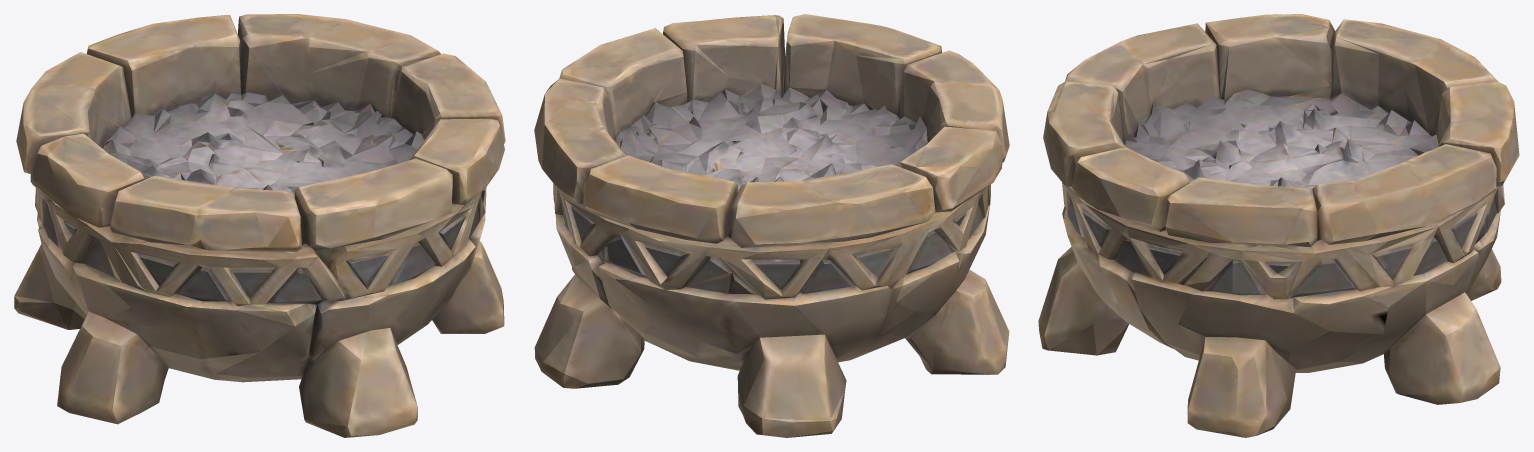
The model's file is brazier.low.glb.
The picture shows the model from 3 angles, left to right: view 1: azimuth 30°, elevation 25°; view 2: azimuth 150°, elevation 25°; view 3: azimuth 270°, elevation 25°; orthographic projection. The views are drawn at different scales.
Visible parts, largest first — view 1: output_unwrapped; view 2: output_unwrapped; view 3: output_unwrapped.
Part boxes in pixels (<box>): output_unwrapped: <box>14,14,505,437</box>; output_unwrapped: <box>534,14,1009,437</box>; output_unwrapped: <box>1038,14,1519,437</box>.
Bounding box in the file's own units: 1.9 × 0.9591 × 1.85.
Materials: 1 (1 with a texture image).
